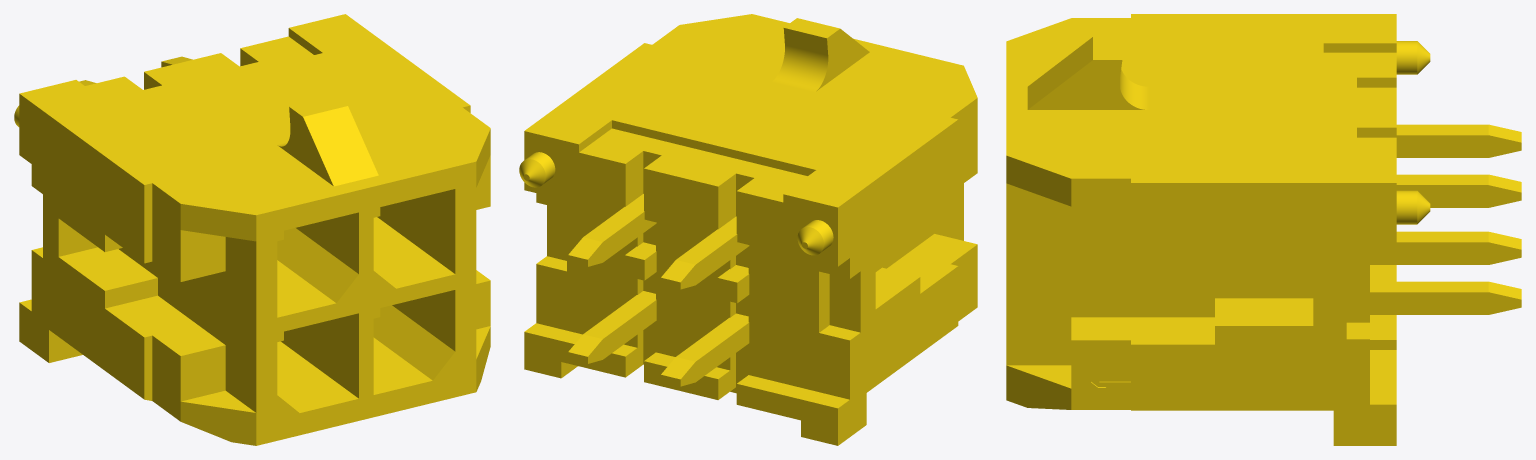
Rendered from Open_CASCADE_STEP_translator_7_5_1_104_2_1.gltf.
3 renders of one model, left to right at view 1: azimuth 30°, elevation 25°; view 2: azimuth 150°, elevation 25°; view 3: azimuth 270°, elevation 25°, orthographic. The views are drawn at different scales.
Visible parts, largest first — view 1: mesh93259, mesh93277, mesh93222, mesh93225, mesh93129, mesh93281, mesh93290, mesh93263, mesh93213, mesh93280, mesh93285, mesh93291 (+22 smaller); view 2: mesh93259, mesh93222, mesh93205, mesh93184, mesh93195, mesh93129, mesh93112, mesh93139, mesh93127, mesh93180, mesh93213, mesh93169 (+32 smaller); view 3: mesh93259, mesh93241, mesh93244, mesh93129, mesh93246, mesh93254, mesh93235, mesh93162, mesh93262, mesh93237, mesh93193, mesh93135 (+17 smaller).
Boxes of the visible parts, left/top/right/bottom form: mesh93259: left=19, top=14, right=490, bottom=215; mesh93277: left=256, top=161, right=476, bottom=445; mesh93222: left=19, top=94, right=144, bottom=399; mesh93225: left=119, top=237, right=256, bottom=412; mesh93129: left=85, top=36, right=313, bottom=104; mesh93281: left=377, top=189, right=455, bottom=273; mesh93290: left=281, top=313, right=358, bottom=398; mesh93263: left=303, top=106, right=378, bottom=186; mesh93213: left=105, top=295, right=225, bottom=355; mesh93280: left=373, top=217, right=454, bottom=288; mesh93285: left=373, top=305, right=454, bottom=380; mesh93291: left=277, top=341, right=358, bottom=412; mesh93259: left=525, top=14, right=977, bottom=207; mesh93222: left=838, top=120, right=958, bottom=445; mesh93205: left=748, top=245, right=849, bottom=399; mesh93184: left=536, top=193, right=637, bottom=347; mesh93195: left=656, top=222, right=730, bottom=370; mesh93129: left=579, top=128, right=807, bottom=202; mesh93112: left=524, top=131, right=625, bottom=212; mesh93139: left=736, top=191, right=837, bottom=266; mesh93127: left=644, top=168, right=718, bottom=235; mesh93180: left=736, top=384, right=837, bottom=445; mesh93213: left=887, top=234, right=976, bottom=293; mesh93169: left=524, top=332, right=625, bottom=378; mesh93259: left=1006, top=14, right=1396, bottom=182; mesh93241: left=1131, top=183, right=1396, bottom=445; mesh93244: left=1006, top=183, right=1313, bottom=365; mesh93129: left=1323, top=52, right=1396, bottom=153; mesh93246: left=1071, top=178, right=1130, bottom=261; mesh93254: left=1071, top=340, right=1130, bottom=409; mesh93235: left=1071, top=317, right=1214, bottom=344; mesh93162: left=1370, top=292, right=1521, bottom=314; mesh93262: left=1028, top=60, right=1144, bottom=109; mesh93237: left=1215, top=298, right=1313, bottom=325; mesh93193: left=1370, top=242, right=1521, bottom=264; mesh93135: left=1396, top=135, right=1521, bottom=157.
Size of the model in its own units: 0.0102 by 0.00877 by 0.0131.
